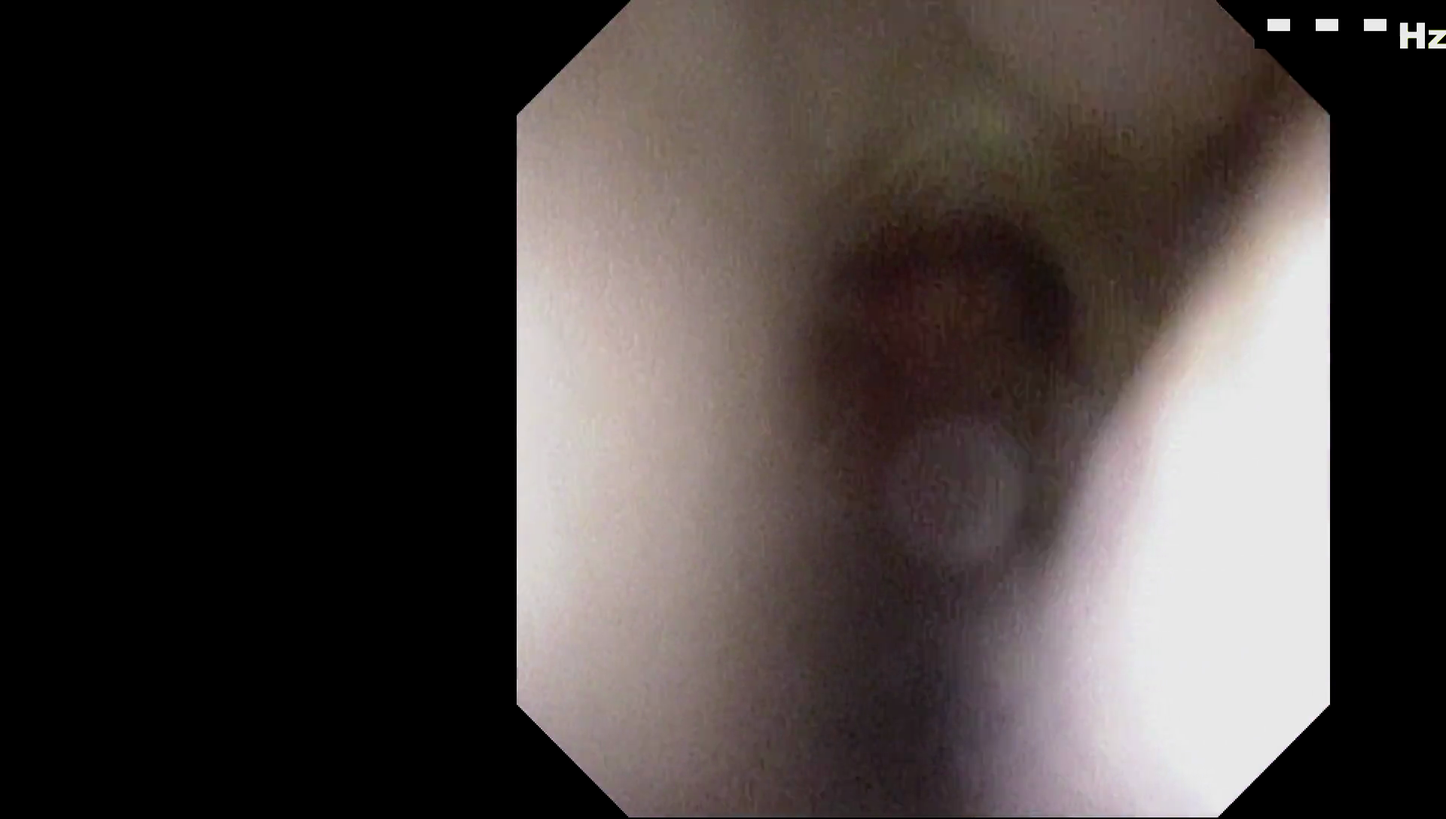close_wall: (521, 72, 867, 695), (1029, 180, 1361, 809)
next: (783, 214, 1072, 492), (781, 529, 998, 811)
